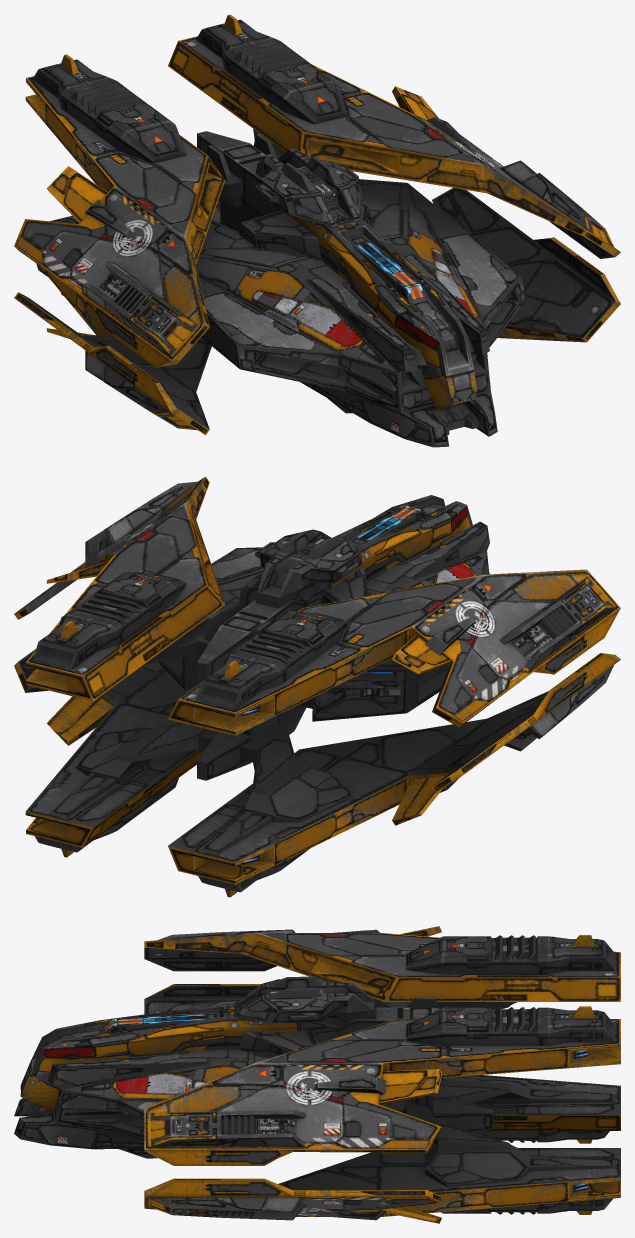
File: ship_9.obj
The picture shows the model from 3 angles, top to bottom: view 1: azimuth 30°, elevation 25°; view 2: azimuth 150°, elevation 25°; view 3: azimuth 270°, elevation 25°; orthographic projection. The views are drawn at different scales.
Visible parts, largest first — view 1: SciFi_Fighter; view 2: SciFi_Fighter; view 3: SciFi_Fighter.
Boxes of the visible parts, <box> form: SciFi_Fighter: <box>14,14,620,447</box>; SciFi_Fighter: <box>14,476,620,897</box>; SciFi_Fighter: <box>14,926,620,1223</box>.
Bounding box in the file's own units: 15.44 × 7.48 × 19.82.
Materials: 1 (1 with a texture image).
